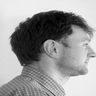ear: (39, 33, 66, 63)
